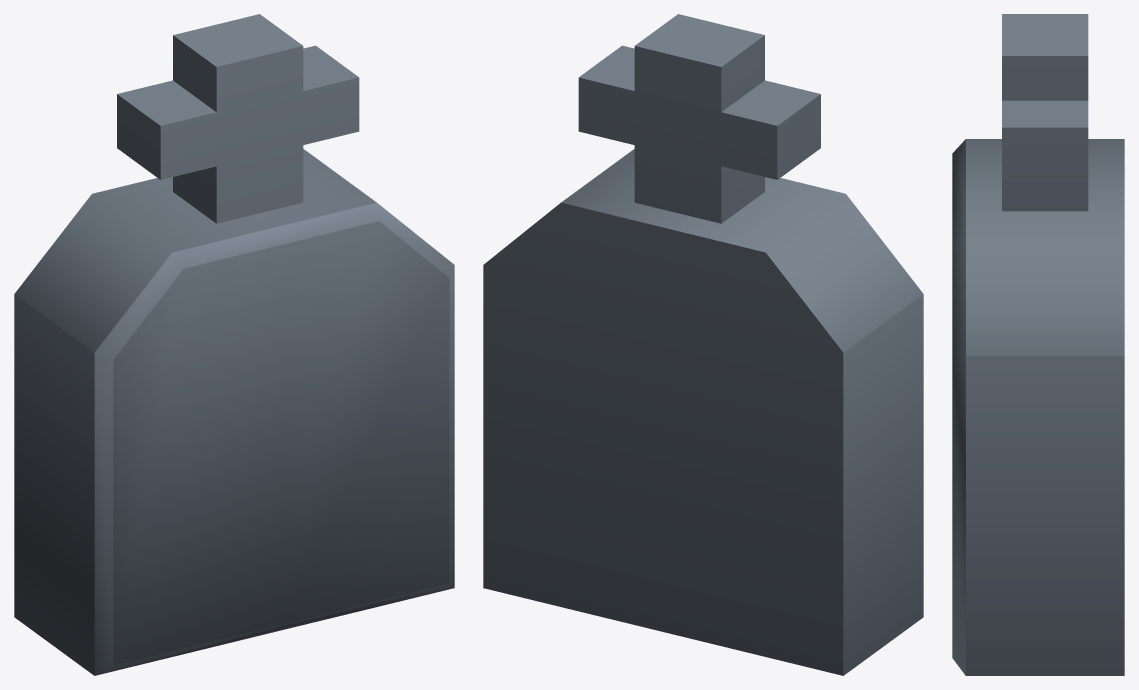
File: Gstone-cross.fbx
3 renders of one model, left to right at view 1: azimuth 30°, elevation 25°; view 2: azimuth 150°, elevation 25°; view 3: azimuth 270°, elevation 25°, orthographic.
Visible parts, largest first — view 1: gstone-cross; view 2: gstone-cross; view 3: gstone-cross.
Boxes of the visible parts, x1,y1,x2,y2 form: gstone-cross: [14, 14, 454, 675]; gstone-cross: [483, 14, 923, 675]; gstone-cross: [952, 14, 1124, 675].
Bounding box in the file's own units: 0.7466 × 1.11 × 0.3126.
